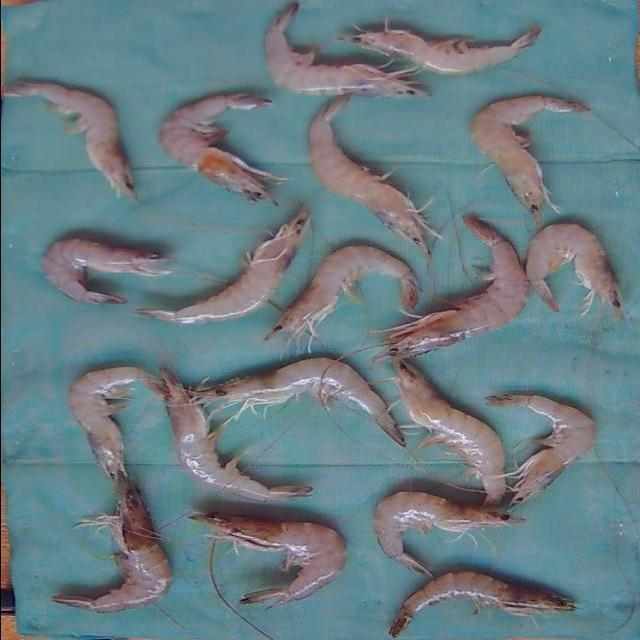shrimp: (374, 216, 529, 360), (307, 95, 439, 259), (134, 206, 310, 324), (160, 369, 311, 502), (190, 358, 404, 446), (50, 478, 170, 614), (395, 361, 506, 505), (263, 1, 430, 96), (1, 82, 136, 199), (471, 95, 589, 221), (189, 515, 345, 608), (264, 246, 418, 340), (158, 93, 286, 204), (374, 492, 524, 577), (389, 573, 577, 639), (487, 396, 595, 507), (67, 368, 161, 481), (338, 23, 541, 73), (526, 224, 623, 318), (40, 239, 171, 304)
